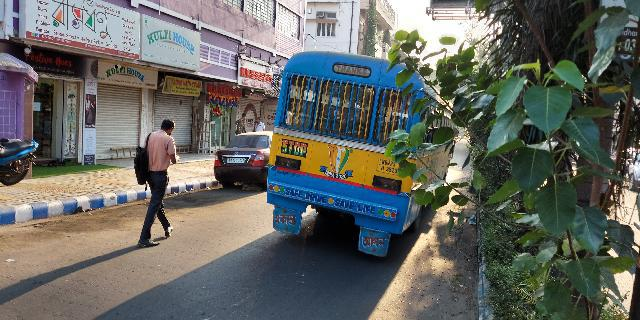Bus: (268, 46, 449, 260)
Car: (210, 129, 268, 194)
